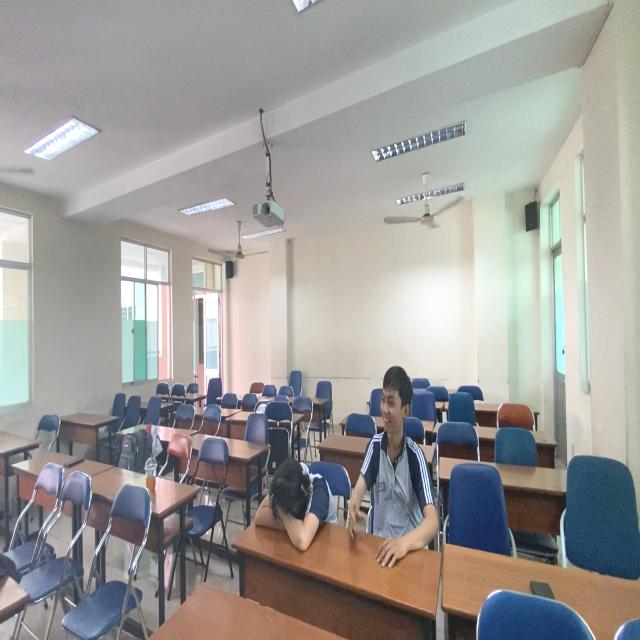sleep: (245, 457, 340, 555)
